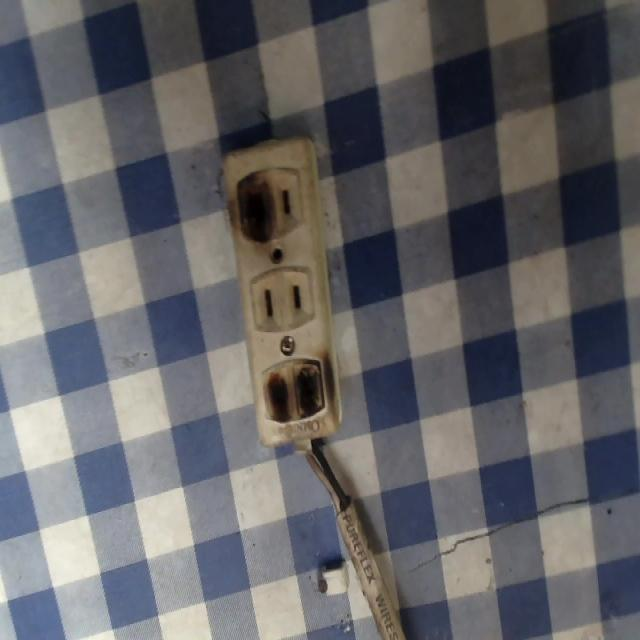-: (261, 352, 336, 432), (232, 162, 280, 246)
